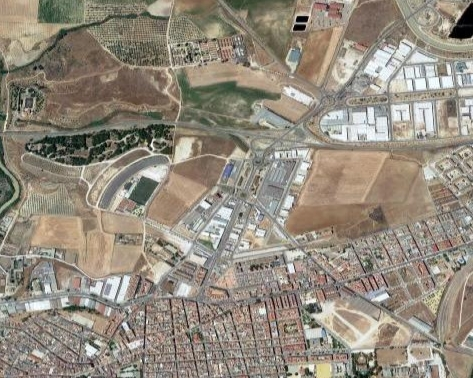industrial: (314, 39, 473, 156), (183, 145, 299, 259)
motorway: (281, 226, 441, 347), (285, 1, 429, 123), (200, 133, 282, 293), (1, 113, 261, 152), (260, 120, 473, 163)
